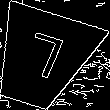L_S: (15, 30, 68, 88)
